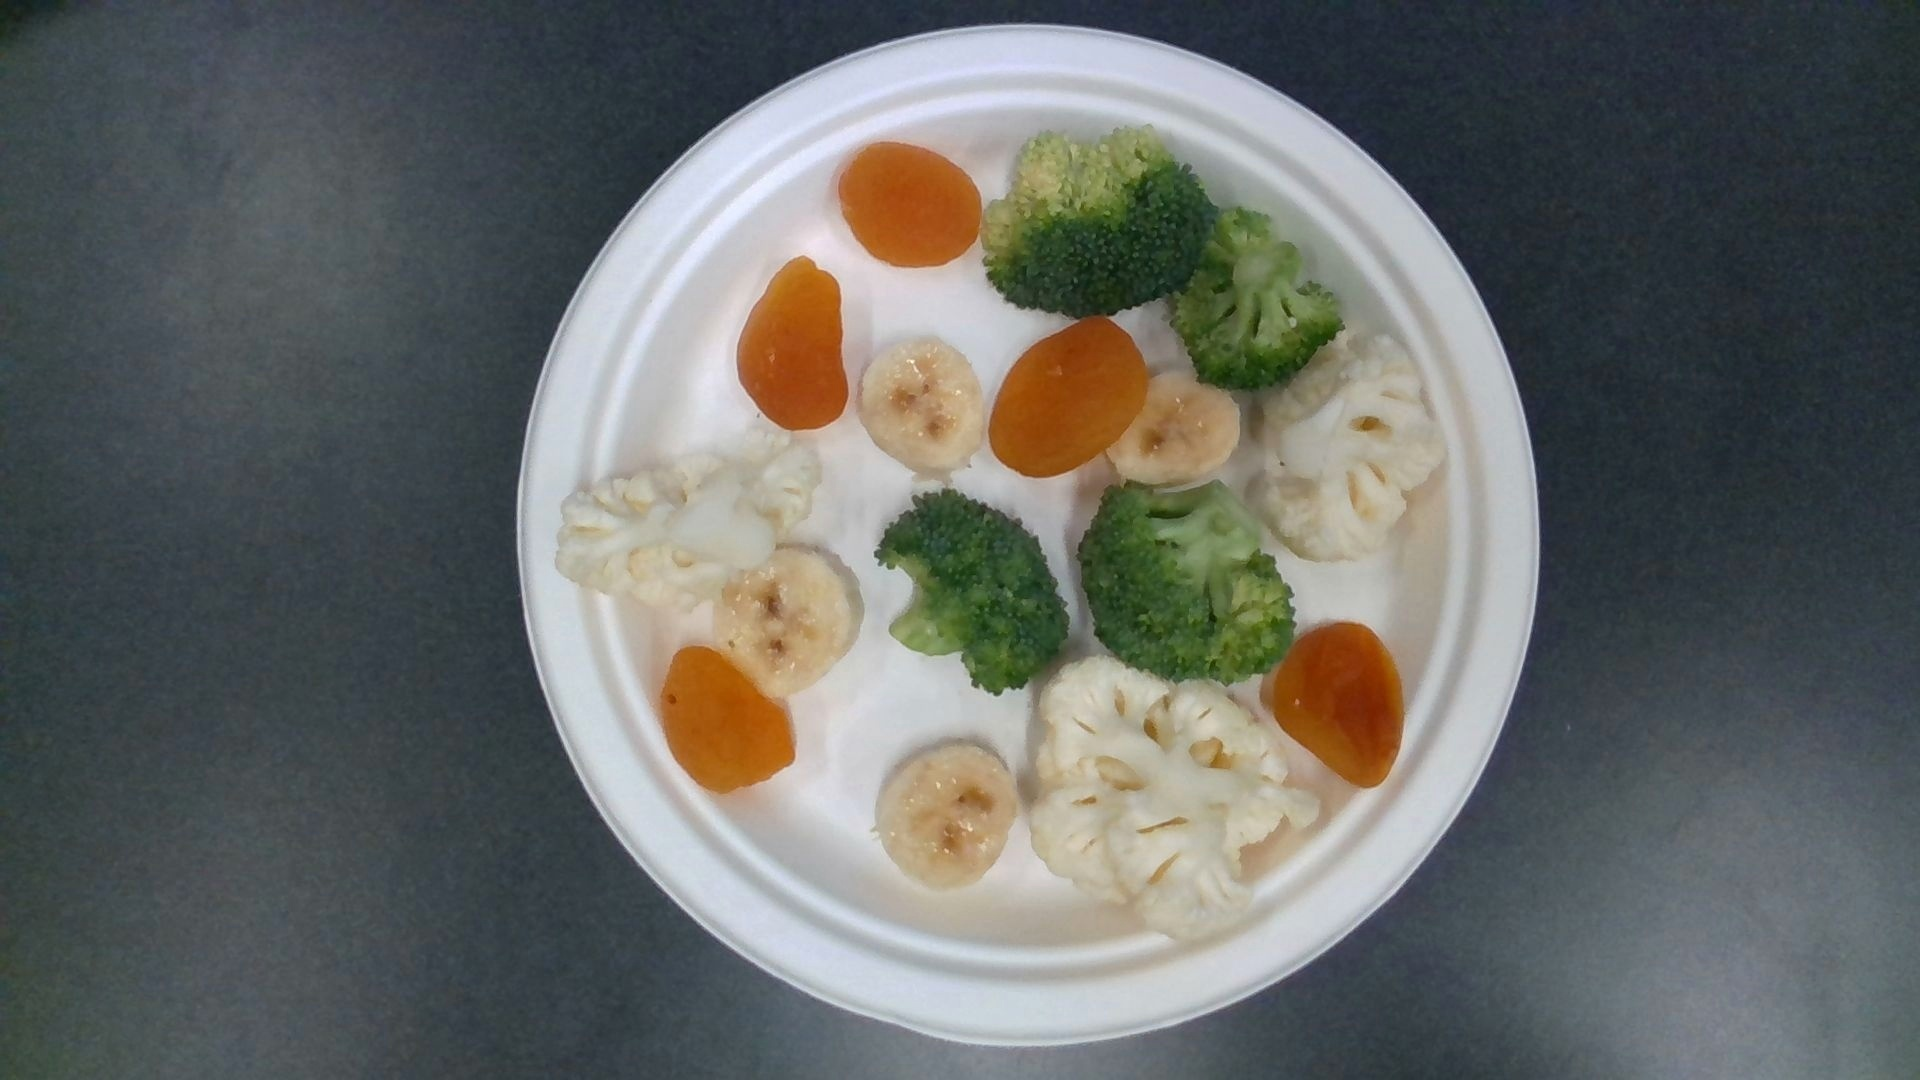apricot: (990, 318, 1145, 477), (1276, 626, 1404, 789), (665, 647, 795, 795), (740, 258, 849, 430), (840, 142, 982, 266)
banana: (717, 546, 864, 695), (877, 741, 1017, 890), (858, 335, 984, 473), (1106, 376, 1240, 487)
broccoli: (982, 125, 1215, 320), (1083, 483, 1294, 680), (877, 491, 1060, 691), (1172, 210, 1342, 382)
cauliflower: (1033, 658, 1320, 936), (1250, 338, 1445, 560), (560, 448, 815, 597)
